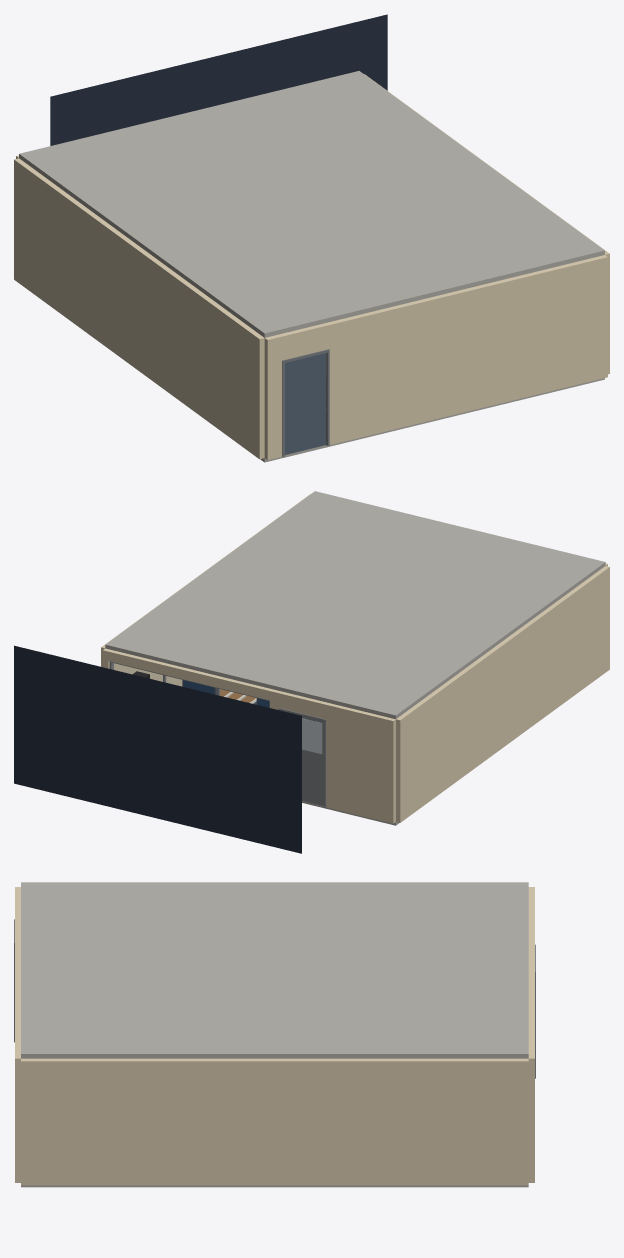
Rendered from St_Conv.fbx.
The picture shows the model from 3 angles, top to bottom: view 1: azimuth 30°, elevation 25°; view 2: azimuth 150°, elevation 25°; view 3: azimuth 270°, elevation 25°; orthographic projection. The views are drawn at different scales.
Visible parts, largest first — view 1: Conv_Shell_LOD0; view 2: Conv_Shell_LOD0; view 3: Conv_Shell_LOD0.
Part boxes in pixels (x1,y1,x2,y2): Conv_Shell_LOD0: (14,14,609,462); Conv_Shell_LOD0: (14,491,609,853); Conv_Shell_LOD0: (14,882,535,1187).
Bounding box in the file's own units: 9.71 × 3.63 × 11.74.
